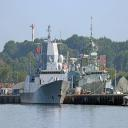Fragata: (19, 22, 72, 107)
